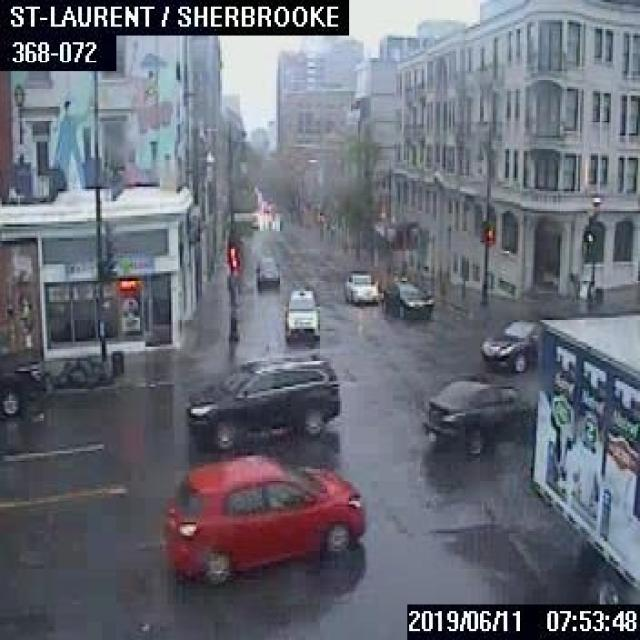vehicle: (529, 314, 638, 602), (160, 449, 364, 575), (184, 352, 340, 448), (420, 374, 536, 459), (479, 318, 536, 371), (0, 354, 42, 414), (381, 274, 433, 318), (282, 286, 318, 338), (344, 269, 379, 303), (255, 254, 280, 282)
